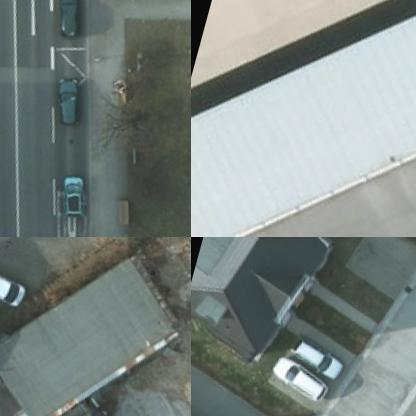car: (263, 349, 329, 395), (46, 70, 89, 126), (288, 336, 342, 378), (52, 168, 90, 219), (46, 0, 88, 37), (0, 261, 27, 305)
